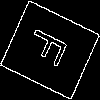F: (25, 25, 77, 73)
